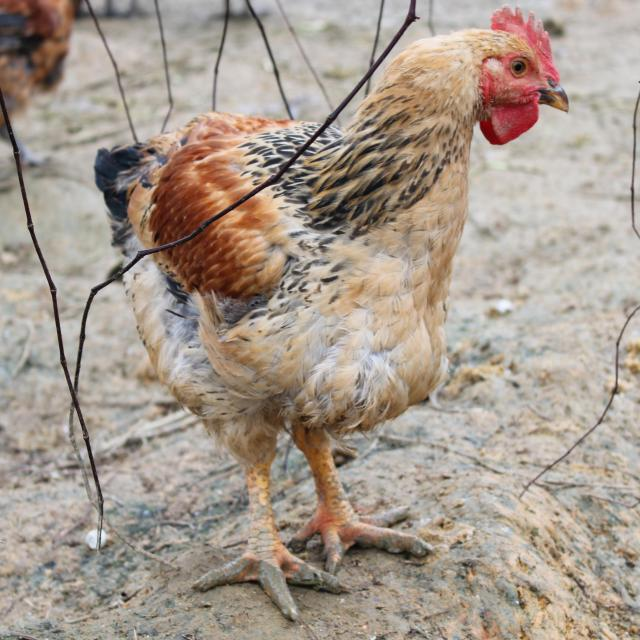hen: (84, 81, 340, 263)
